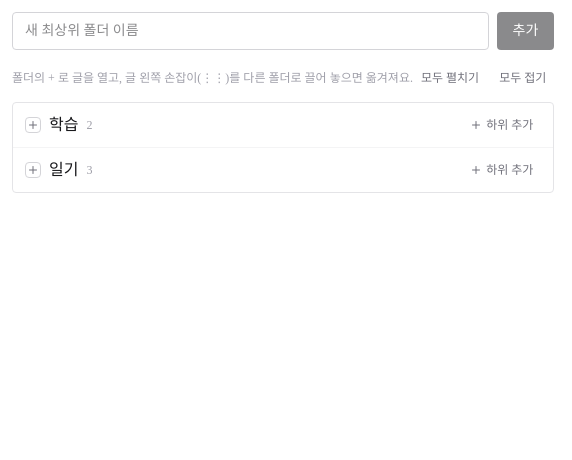
Test: PostMover (글 이동 탭) › '모두 펼치기'는 내용이 있는 폴더를 전부 열고, '모두 접기'는 전부 닫는다
The image size is (572, 460).
Click the button "모두 펼치기": (450, 78) [413,66,487,90]
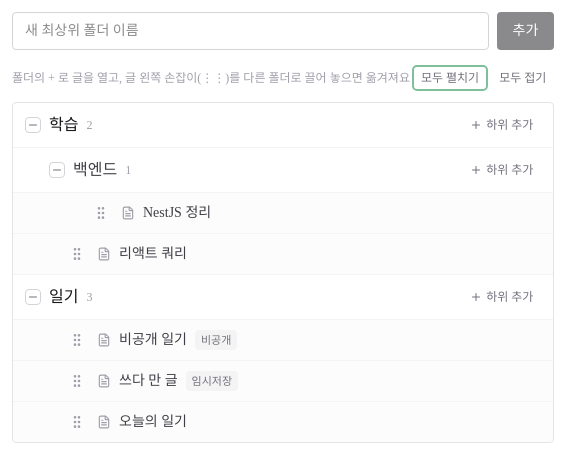
Result: the link "리액트 쿼리" is shown at [119,244,187,264]
Result: the link "NestJS 정리" is shown at [143,203,211,223]
Result: the link "비공개 일기" is shown at [119,330,187,350]
Click the button "모두 접기": (523, 78) [491,66,554,90]
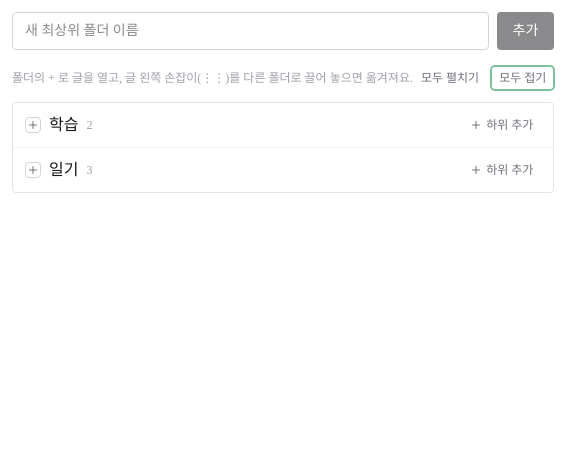
Result: the link "리액트 쿼리" is gone
